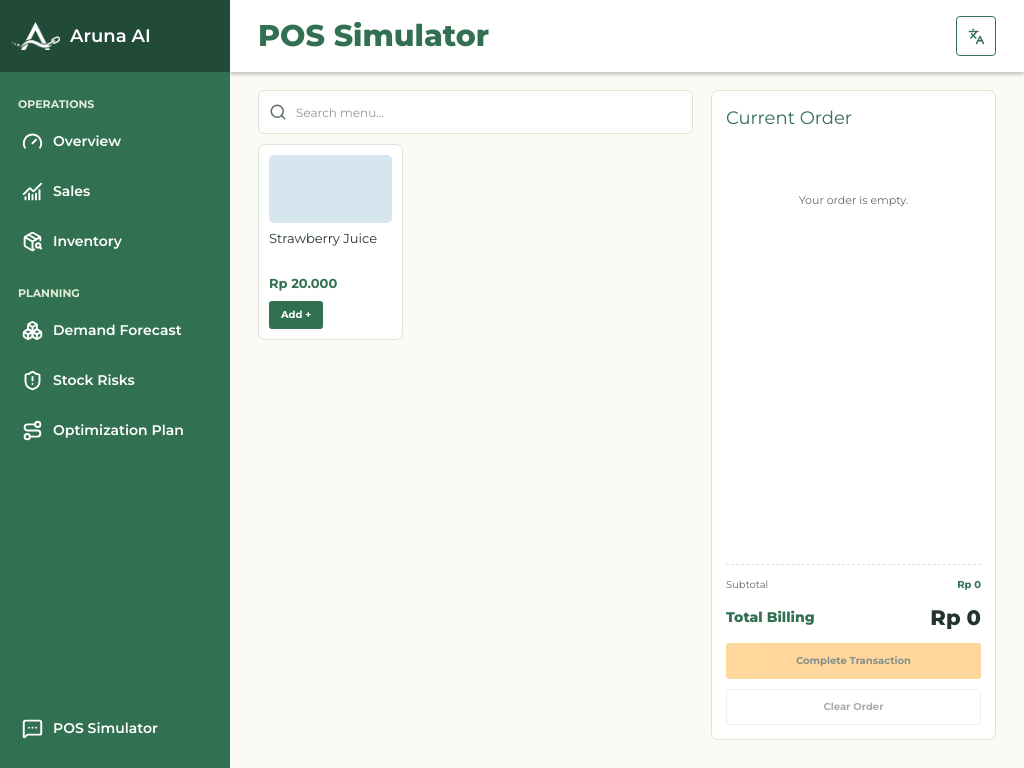
Test case: POS retry safety › recovers a lost response with the identical payload/key and retains the cart
Click the button "Add +".
click(296, 315)  # box [269,301,323,329]
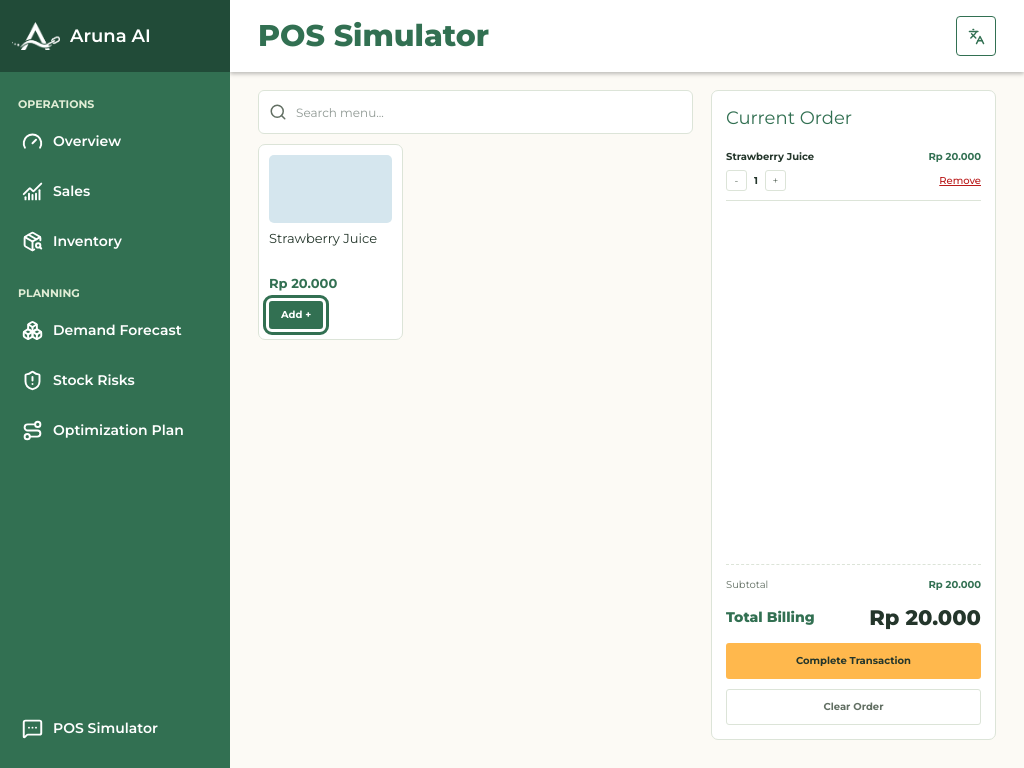
Click the button "Complete Transaction".
click(854, 661)  # box [726,643,981,679]
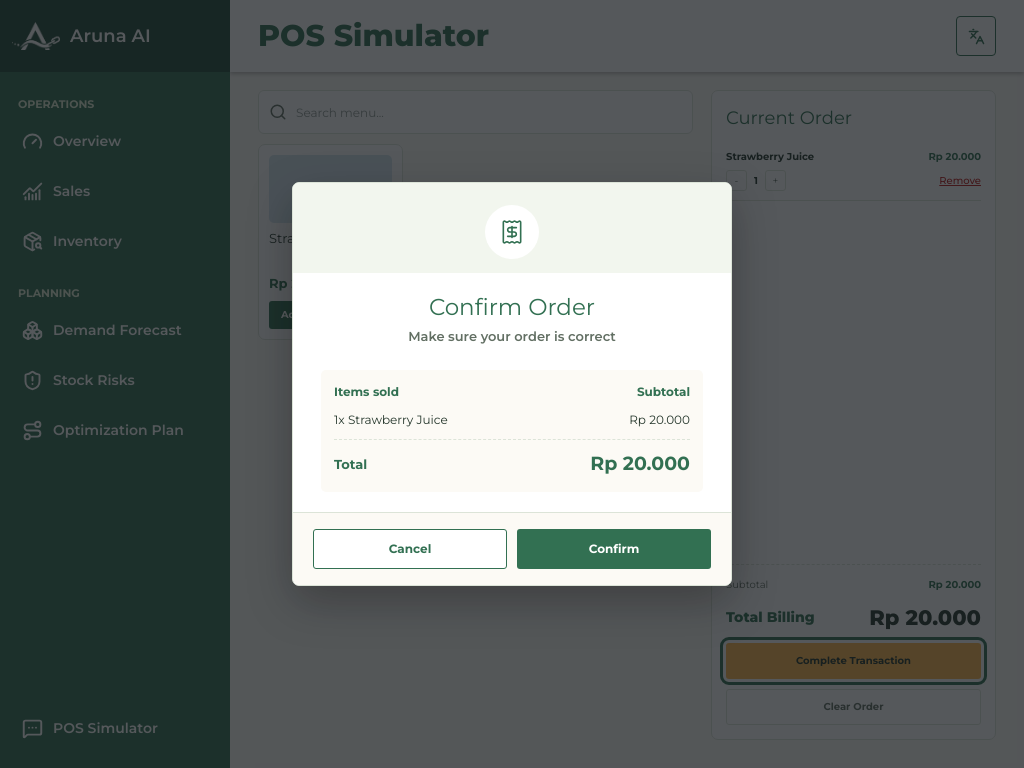
Click the button "Confirm".
click(614, 549)  # box [517,529,711,569]
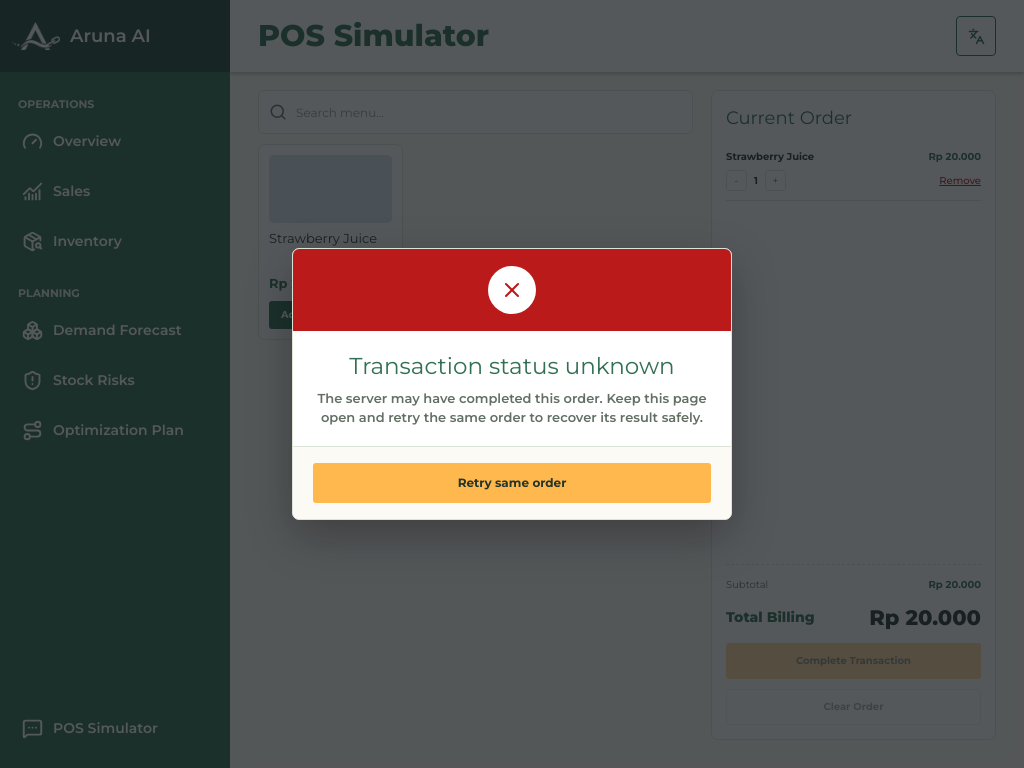
Expected: the button "New Order" is not shown
Expected: the heading "Transaction status unknown" is shown, [349,352,675,380]
Click the button "Retry same order".
click(512, 483)  # box [313,463,711,503]
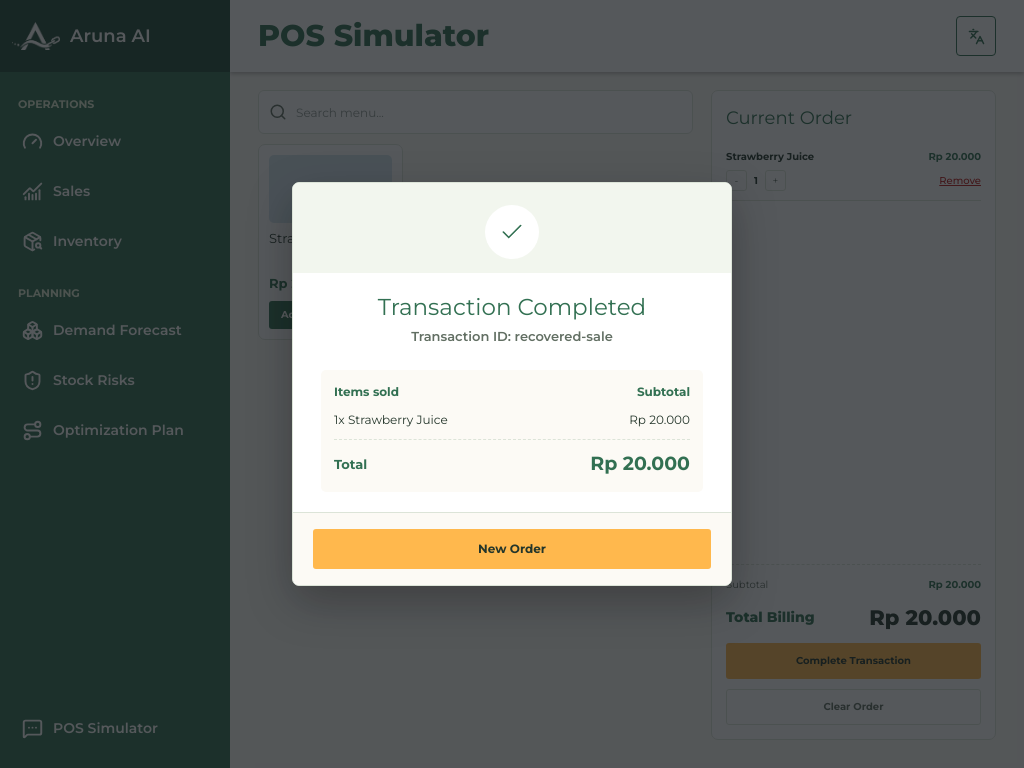
Expected: the heading "Transaction Completed" is shown, [378,293,646,321]
Expected: the text "Transaction ID: recovered-sale" is shown, [411,328,613,344]
